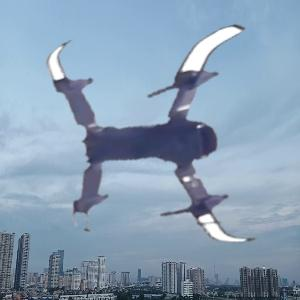drone: (49, 15, 299, 265)
